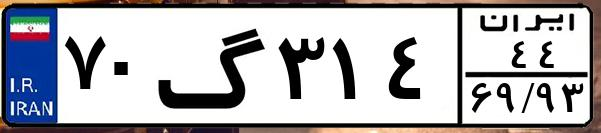0: (110, 28, 156, 98)
1: (330, 28, 385, 110)
3: (270, 28, 330, 110), (560, 70, 590, 125)
4: (385, 28, 445, 110), (537, 27, 568, 80), (508, 27, 537, 80)
6: (470, 70, 495, 125)
7: (57, 26, 110, 100)
9: (495, 70, 520, 125), (535, 70, 560, 125)
گ: (156, 12, 270, 120)
